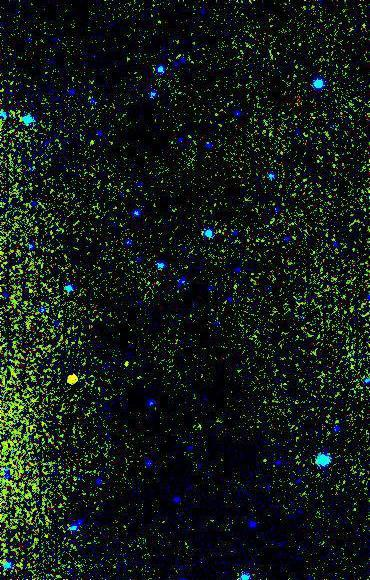star: (110, 352, 140, 382)
